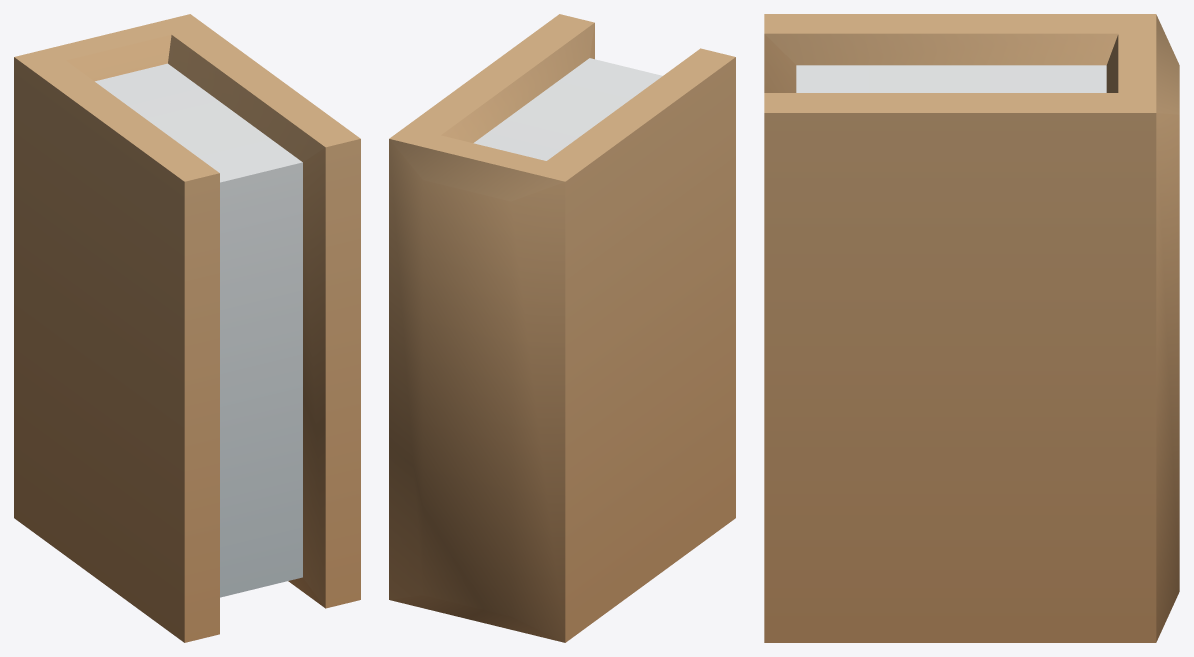
Rendered from book_tan.glb.
3 views of the same model, side by side, from view 1: azimuth 30°, elevation 25°; view 2: azimuth 150°, elevation 25°; view 3: azimuth 270°, elevation 25° (orthographic). The views are drawn at different scales.
Visible parts, largest first — view 1: book_tan; view 2: book_tan; view 3: book_tan.
Boxes of the visible parts, x1,y1,x2,y2 form: book_tan: (14,14,360,642); book_tan: (389,14,735,642); book_tan: (764,14,1179,642).
Bounding box in the file's own units: 0.2 × 0.5 × 0.355.
Materials: 1 (1 with a texture image).
